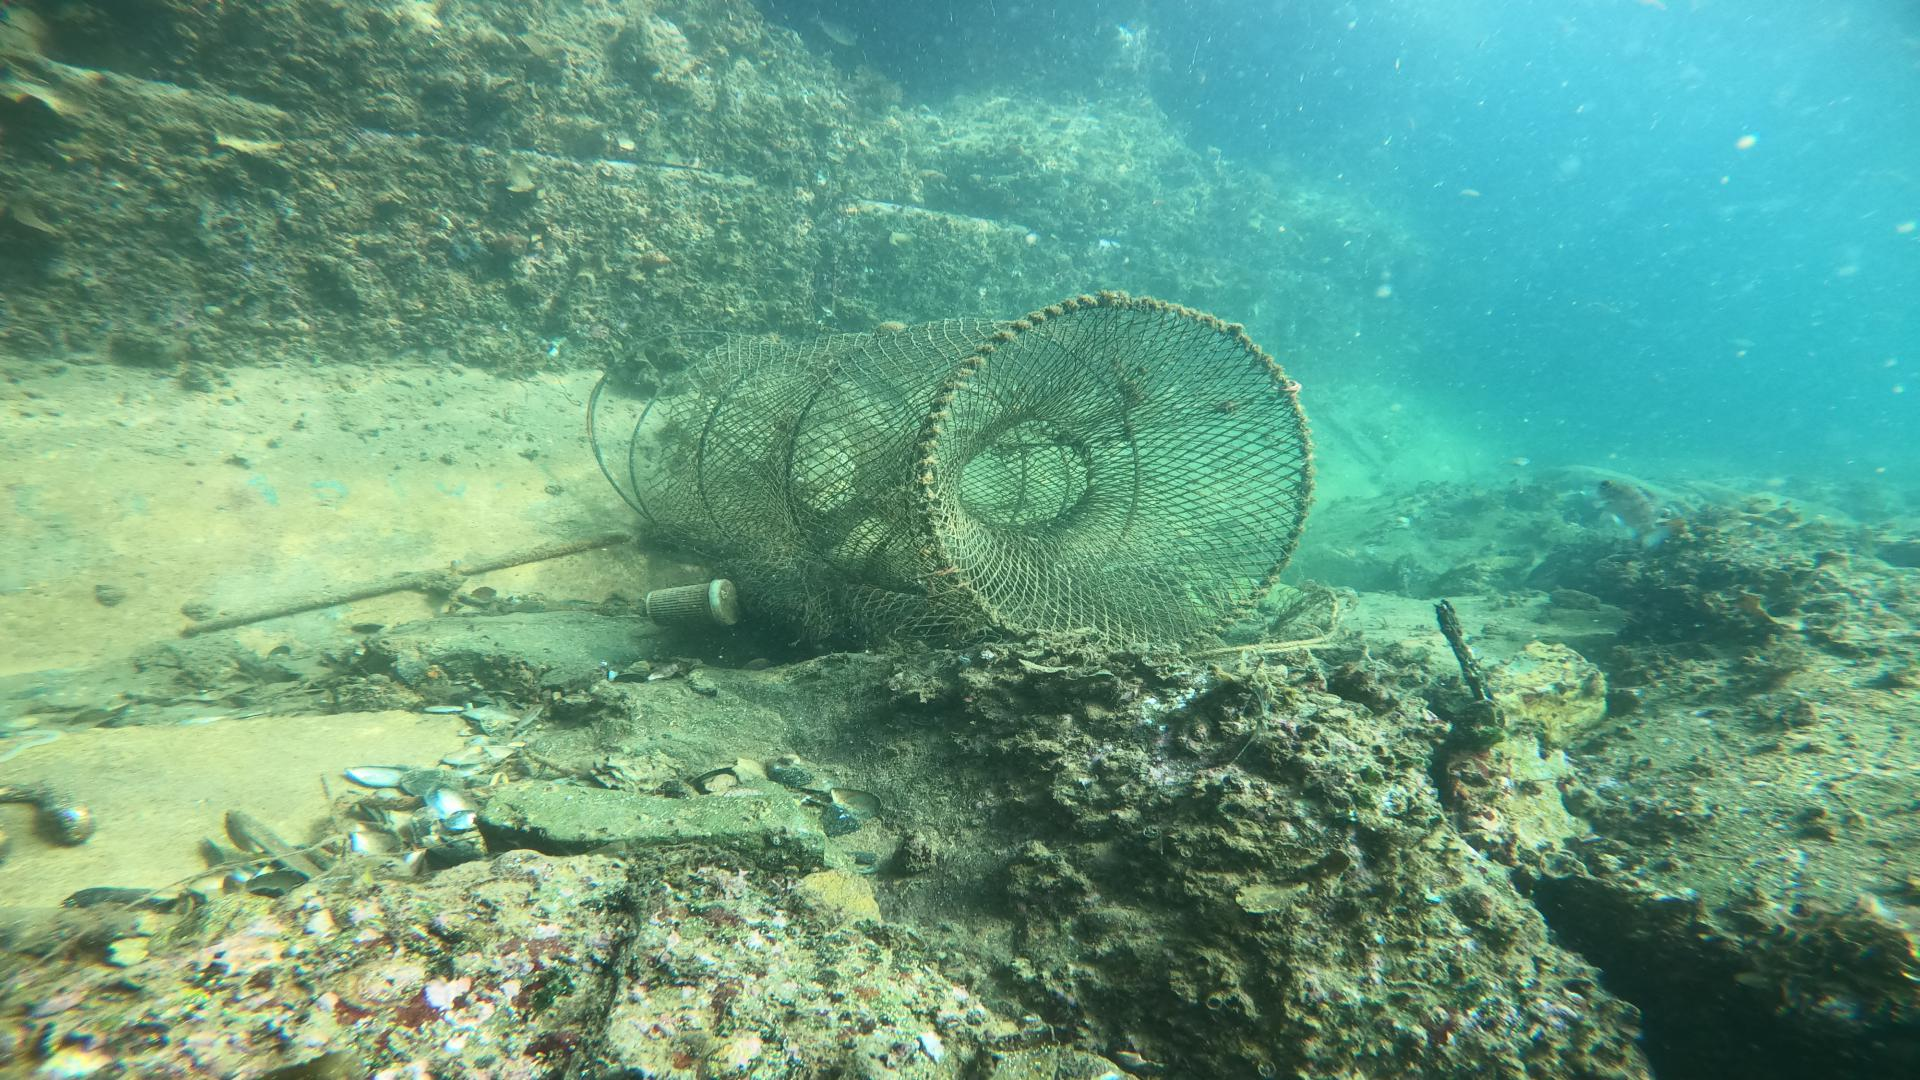spring fish trap: (628, 291, 1311, 659)
